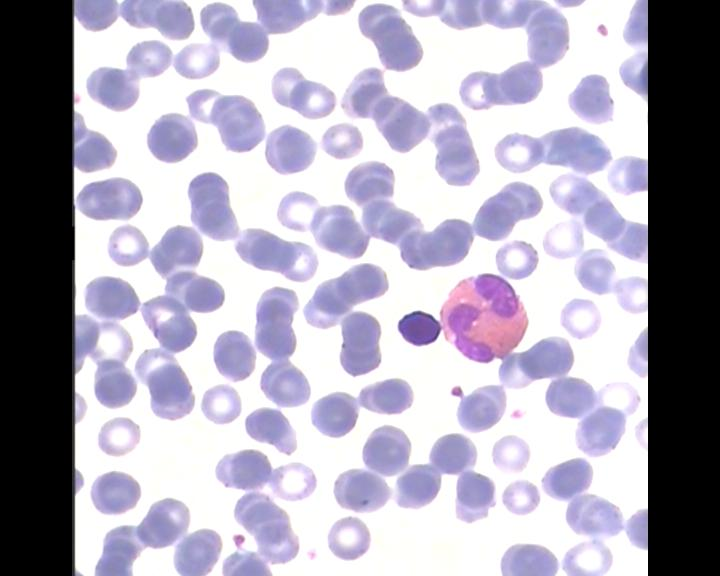eosi: (437, 270, 531, 367)
